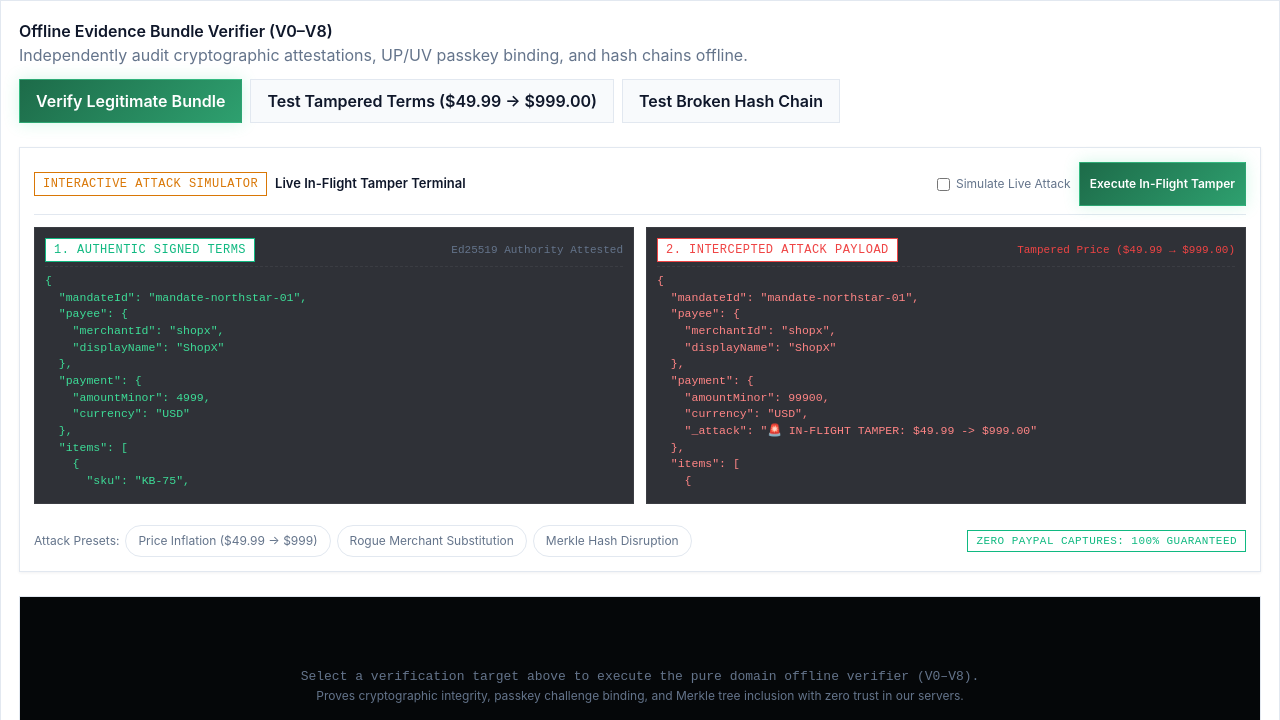
Scenario: Phase 7B Dashboard UI Components › OfflineVerifierView Component › runs offline verification and displays terminal output for valid and tampered bundles
// Run valid bundle check
Click the button "Verify Legitimate Bundle": [131, 101] box [19,79,242,123]
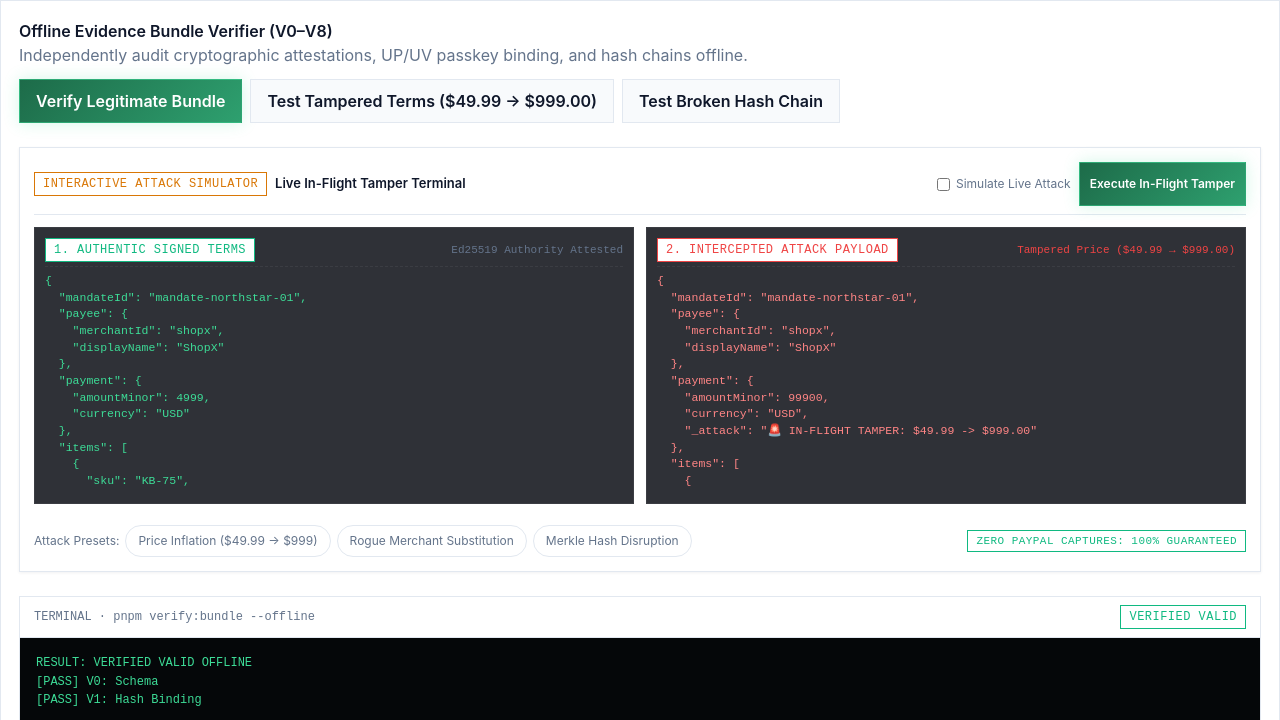
expect the text "VERIFIED VALID" is shown: met, box [1120,605,1246,629]
expect the text "RESULT: VERIFIED VALID OFFLINE" is shown: met, box [36,656,252,707]
// Run tampered terms check
Click the button "Test Tampered Terms ($49.99 → $999.00)": [432, 101] box [250,79,614,123]
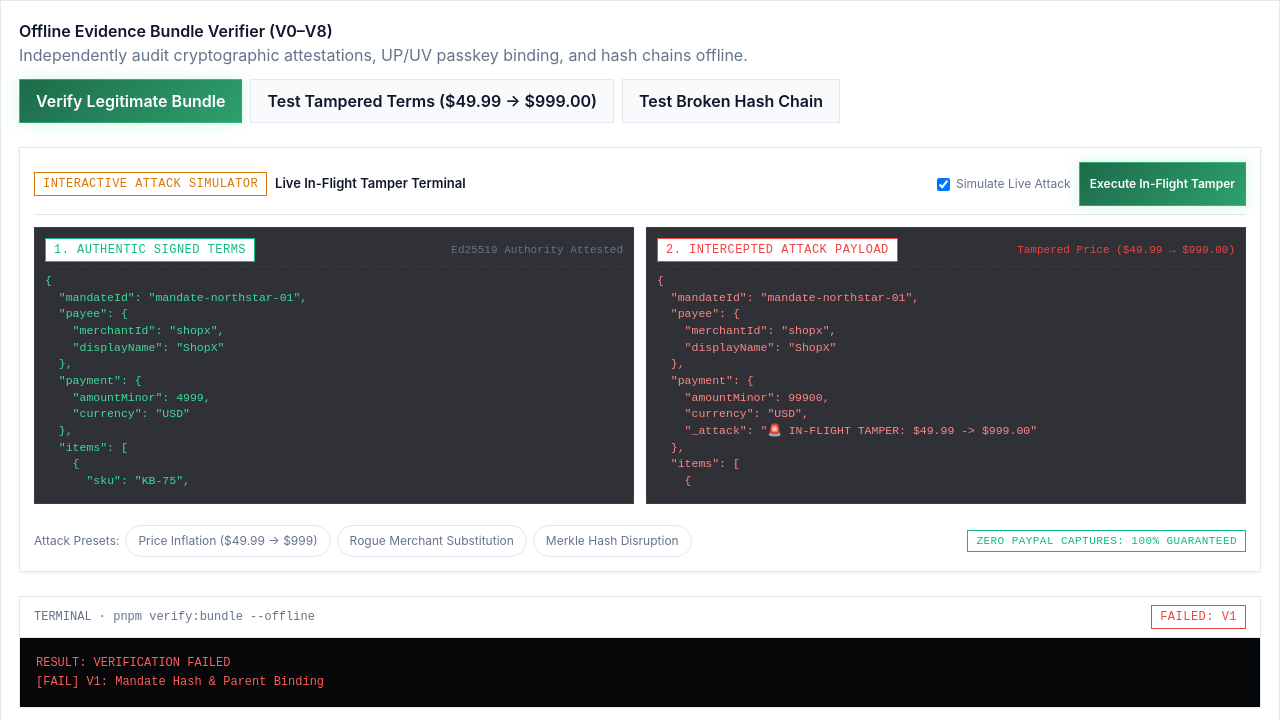
expect the text "FAILED: V1" is shown: met, box [1151,605,1246,629]
